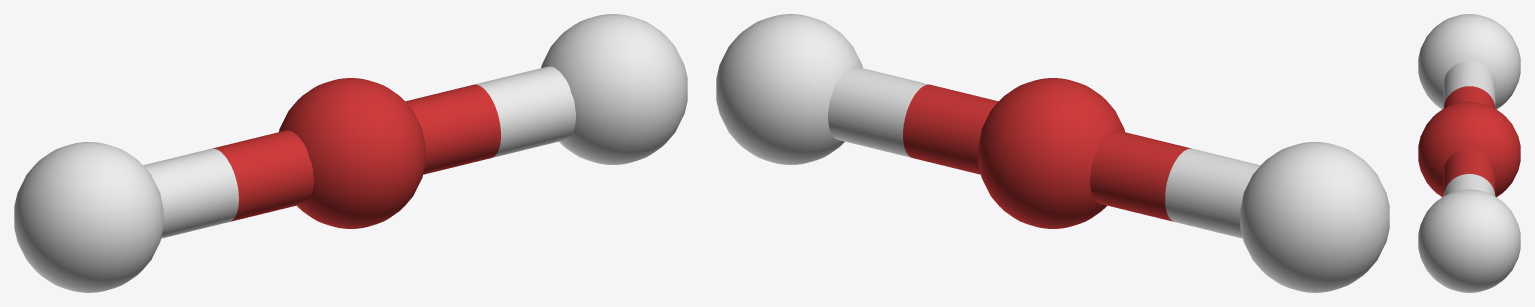
The model's file is samp-1.glb.
The picture shows the model from 3 angles, left to right: view 1: azimuth 30°, elevation 25°; view 2: azimuth 150°, elevation 25°; view 3: azimuth 270°, elevation 25°; orthographic projection. The views are drawn at different scales.
Visible parts, largest first — view 1: Sphere_1, Sphere_1_2, Sphere, Cylinder_2_2, Cylinder_1, Cylinder, Cylinder_2; view 2: Sphere_1, Sphere_1_2, Sphere, Cylinder_1, Cylinder_2_2, Cylinder, Cylinder_2; view 3: Sphere_1_2, Sphere_1, Sphere, Cylinder, Cylinder_2, Cylinder_2_2, Cylinder_1.
Part boxes in pixels (x1,y1,x2,y2): Sphere_1: (14, 142, 163, 292); Sphere_1_2: (541, 14, 687, 164); Sphere: (279, 78, 425, 228); Cylinder_2_2: (474, 66, 575, 157); Cylinder_1: (212, 130, 313, 221); Cylinder: (405, 84, 500, 174); Cylinder_2: (143, 148, 238, 238); Sphere_1: (1240, 142, 1389, 292); Sphere_1_2: (716, 14, 862, 164); Sphere: (978, 78, 1124, 228); Cylinder_1: (1090, 130, 1191, 221); Cylinder_2_2: (828, 66, 929, 157); Cylinder: (903, 84, 998, 174); Cylinder_2: (1165, 148, 1260, 238); Sphere_1_2: (1418, 189, 1520, 292); Sphere_1: (1418, 14, 1520, 109); Sphere: (1418, 101, 1520, 197); Cylinder: (1443, 149, 1495, 194); Cylinder_2: (1443, 61, 1495, 106); Cylinder_2_2: (1443, 174, 1495, 195); Cylinder_1: (1443, 86, 1495, 108).
Size of the model in its own units: 1000 by 200 by 198.
